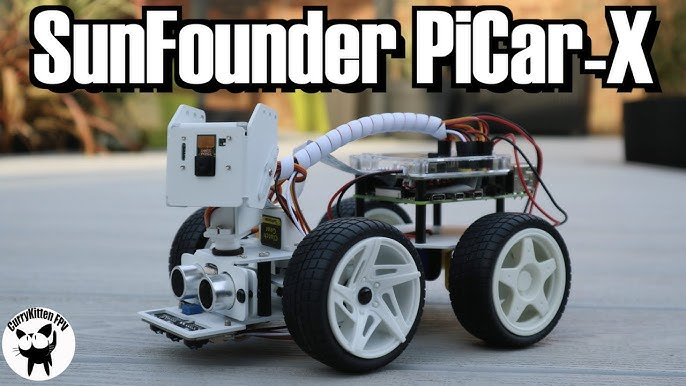vehicle: (124, 96, 573, 380)
